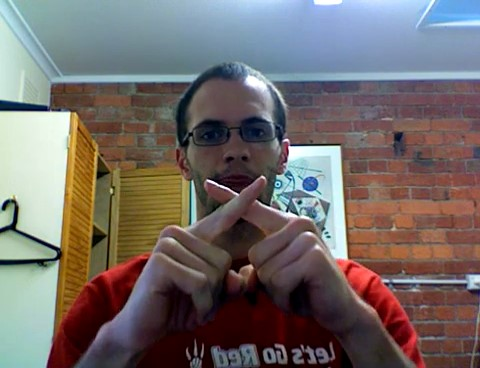X: (118, 171, 368, 339)
